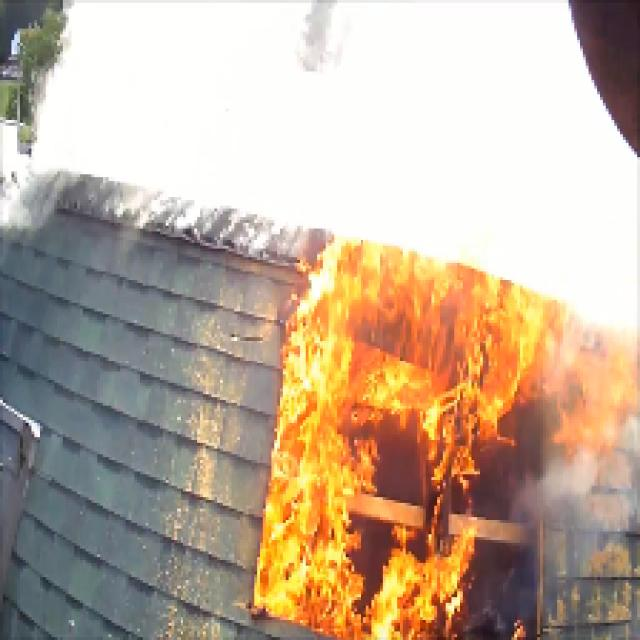fire: (288, 257, 515, 616)
